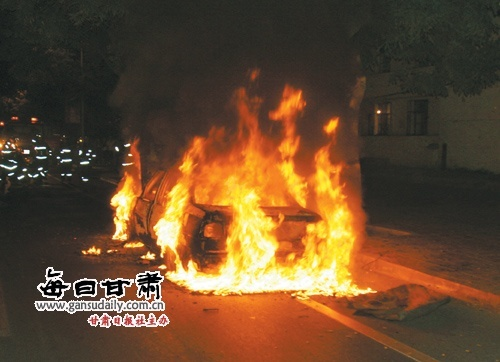fire: (104, 78, 375, 305)
